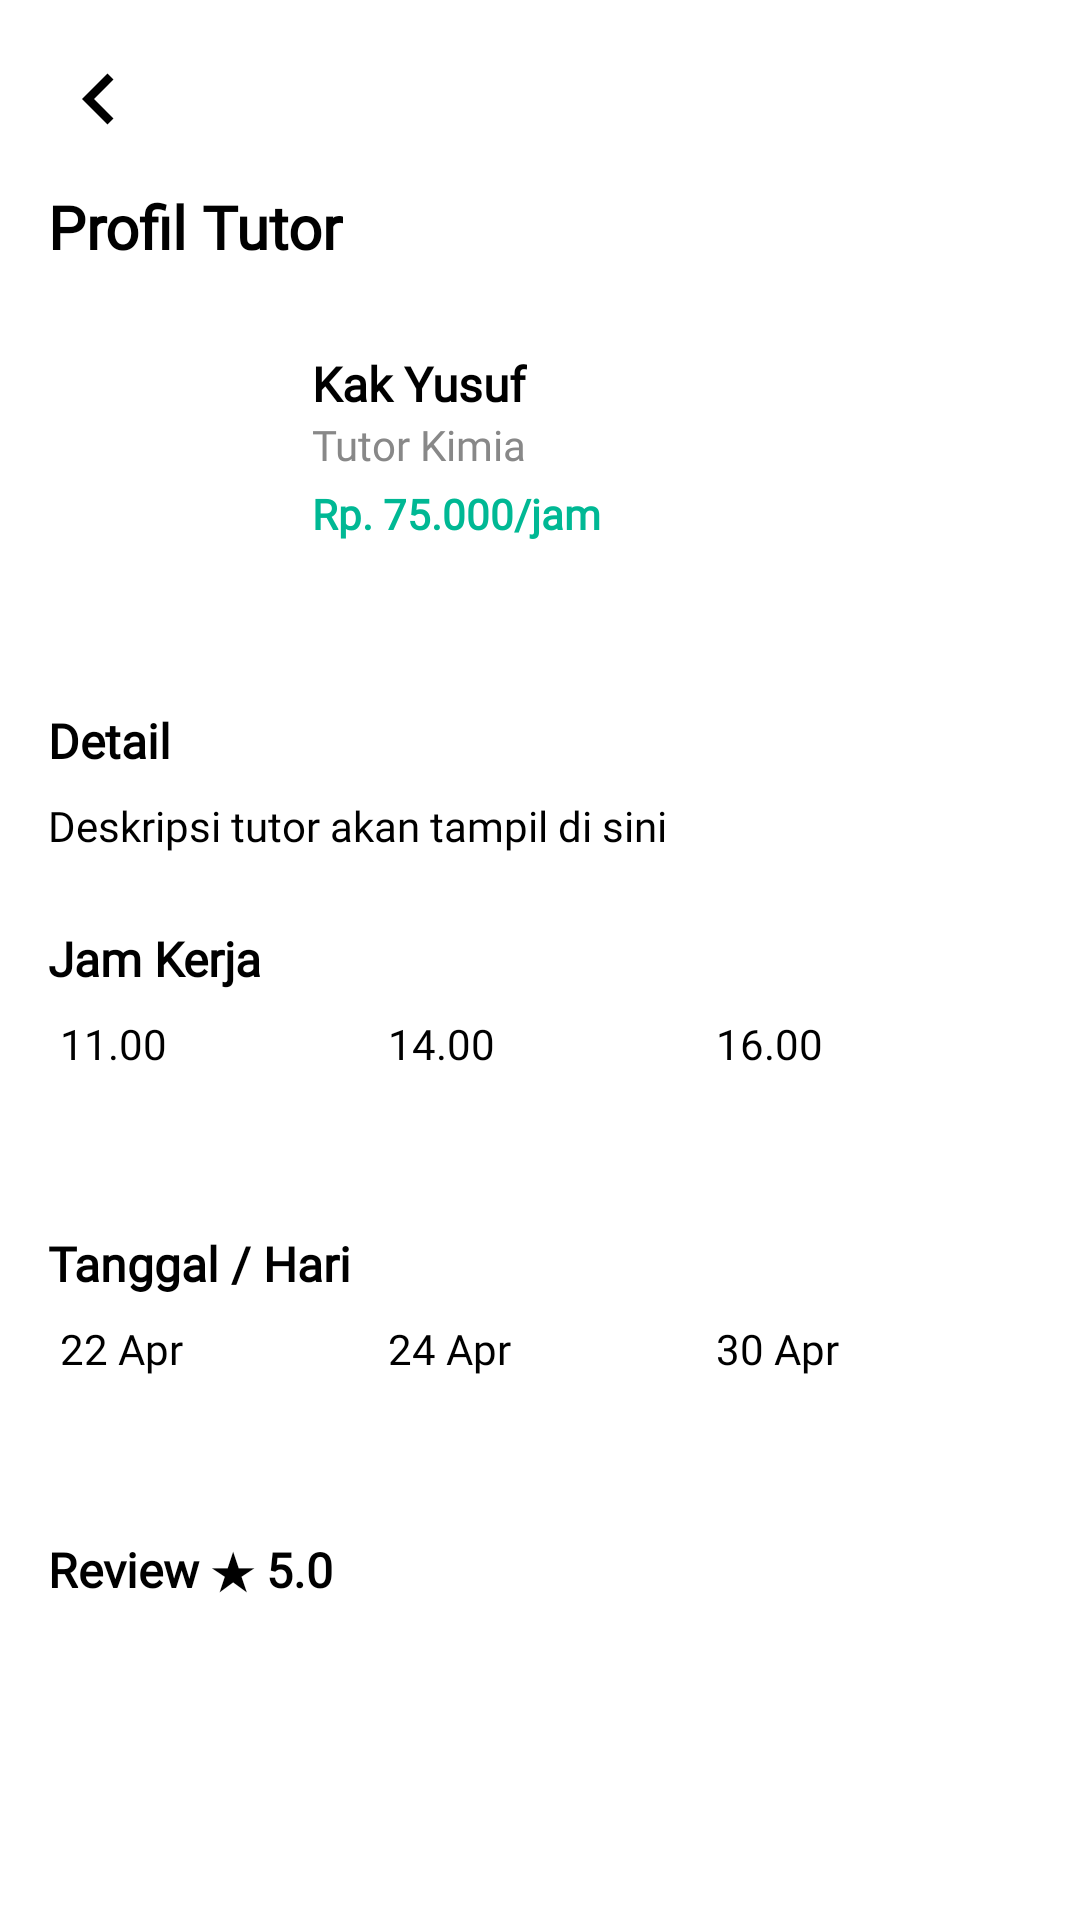

Screen size 1080 x 1920. Icon name, then its box in pixels as rect(x1, y1, x2, y2):
Back: rect(82, 73, 114, 125)
